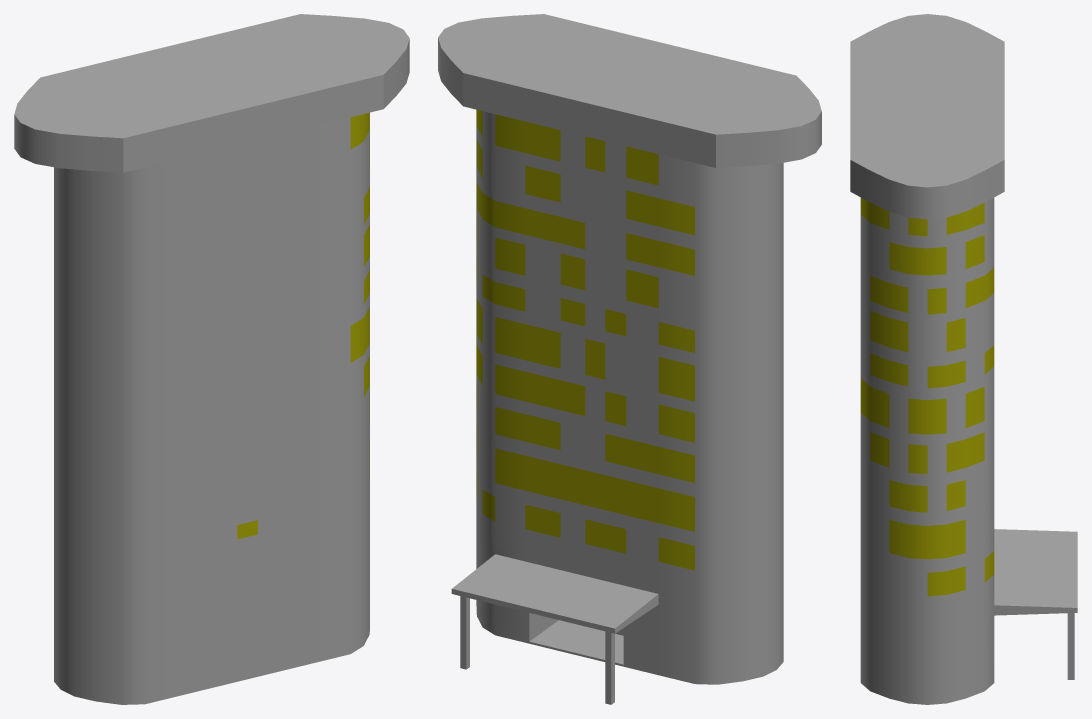
File: BuildingC.fbx
3 views of the same model, side by side, from view 1: azimuth 30°, elevation 25°; view 2: azimuth 150°, elevation 25°; view 3: azimuth 270°, elevation 25° (orthographic). The views are drawn at different scales.
Visible parts, largest first — view 1: BuildingC1; view 2: BuildingC1; view 3: BuildingC1.
Boxes of the visible parts, left/top/right/bottom form: BuildingC1: left=14, top=14, right=409, bottom=704; BuildingC1: left=438, top=14, right=821, bottom=704; BuildingC1: left=850, top=14, right=1077, bottom=704.
Bounding box in the file's own units: 24.04 × 34.62 × 13.3.
